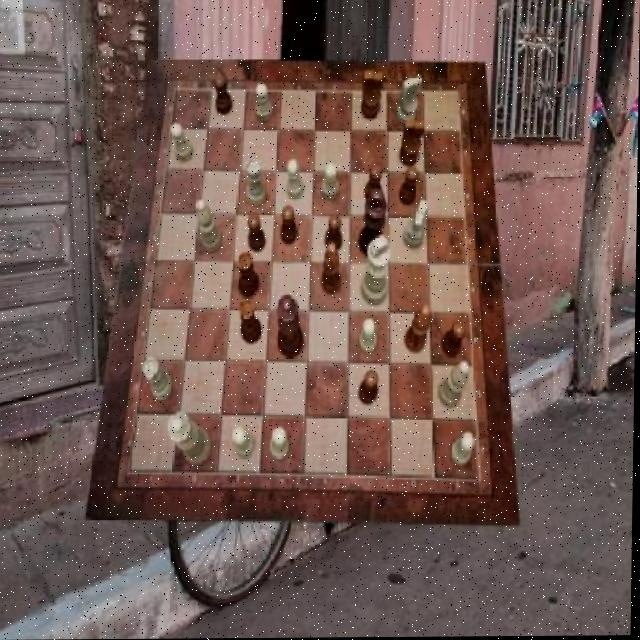bishop: (405, 305, 432, 355), (321, 243, 342, 295)
black-bishop: (359, 189, 387, 258)
black-king: (400, 121, 425, 167), (361, 72, 384, 121)
black-knight: (441, 322, 466, 357), (400, 167, 420, 205), (213, 74, 231, 116), (358, 370, 379, 405), (280, 206, 298, 245), (326, 215, 344, 253), (249, 214, 267, 251), (365, 166, 383, 203)
black-pawn: (278, 295, 306, 359)
black-queen: (237, 252, 260, 298), (239, 300, 262, 345)
black-rook: (196, 199, 222, 254), (439, 362, 470, 408)
white-bishop: (361, 235, 391, 306)
white-king: (397, 78, 422, 127), (403, 201, 427, 250)
white-knight: (169, 124, 192, 162), (452, 432, 476, 467), (234, 426, 257, 459), (270, 427, 291, 461), (287, 161, 304, 200), (360, 319, 378, 355), (256, 85, 273, 123), (321, 164, 338, 200)
white-pawn: (167, 411, 212, 466)
white-queen: (143, 357, 174, 402), (246, 160, 268, 208)
